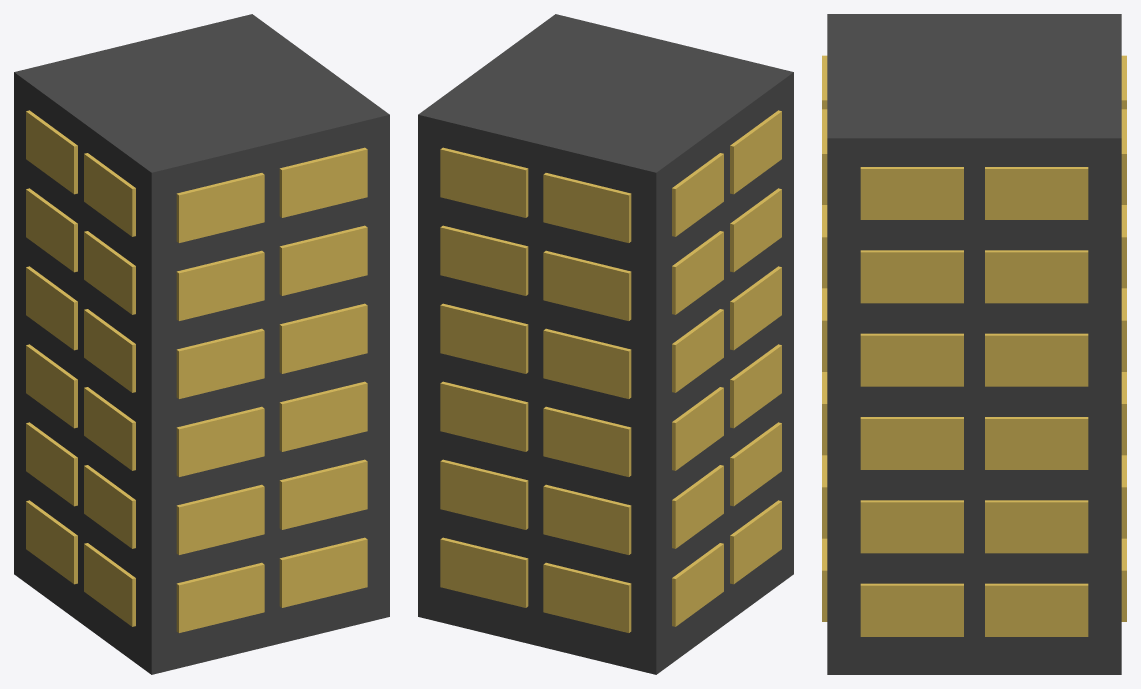
File: building1.glb
The picture shows the model from 3 angles, left to right: view 1: azimuth 30°, elevation 25°; view 2: azimuth 150°, elevation 25°; view 3: azimuth 270°, elevation 25°; orthographic projection. The views are drawn at different scales.
Parts seen in each view (by area): view 1: Building1; view 2: Building1; view 3: Building1.
Boxes of the visible parts, left/top/right/bottom form: Building1: left=14, top=14, right=389, bottom=674; Building1: left=418, top=14, right=793, bottom=674; Building1: left=822, top=14, right=1126, bottom=674.
Bounding box in the file's own units: 1.03 × 2.01 × 1.04.
